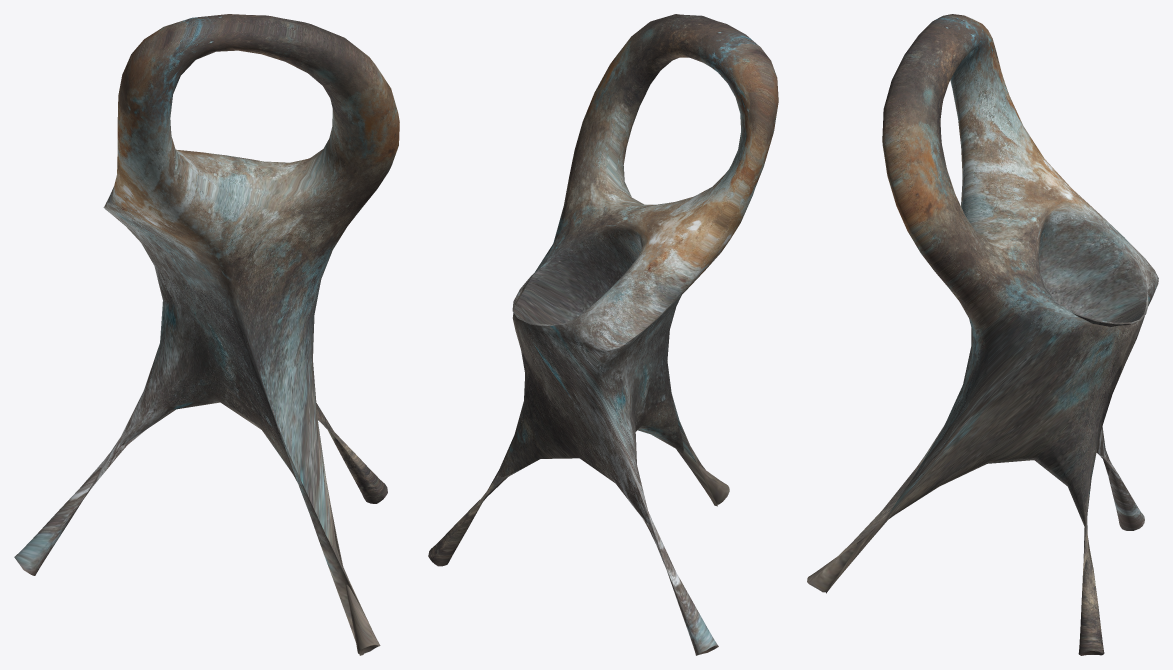
File: SM_Sculpture01.fbx
The picture shows the model from 3 angles, left to right: view 1: azimuth 30°, elevation 25°; view 2: azimuth 150°, elevation 25°; view 3: azimuth 270°, elevation 25°; orthographic projection. The views are drawn at different scales.
Parts seen in each view (by area): view 1: SM_Sculpture01; view 2: SM_Sculpture01; view 3: SM_Sculpture01.
Part boxes in pixels (x1,y1,x2,y2): SM_Sculpture01: (14,14,399,655); SM_Sculpture01: (428,14,778,655); SM_Sculpture01: (807,14,1158,655).
Bounding box in the file's own units: 45.49 × 77.05 × 45.49.
